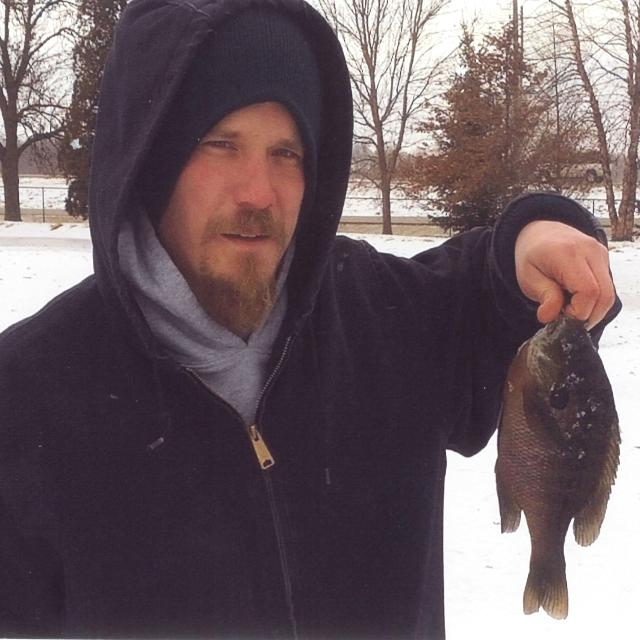Bluegill: (495, 314, 620, 620)
